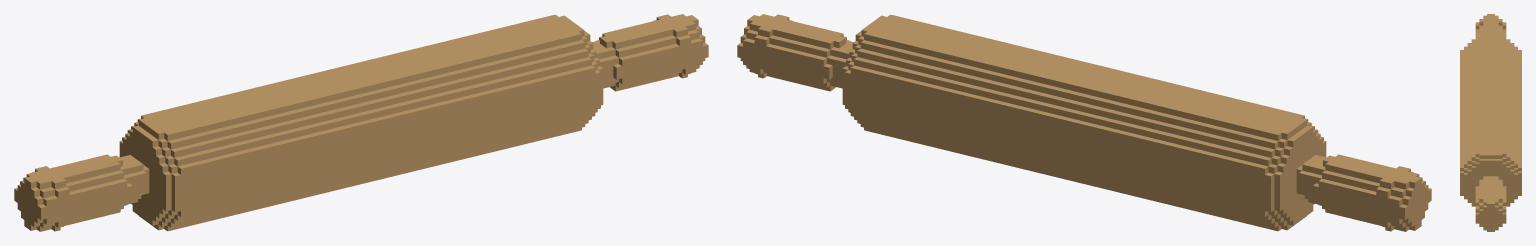
File: rolling_pin.glb
The picture shows the model from 3 angles, left to right: view 1: azimuth 30°, elevation 25°; view 2: azimuth 150°, elevation 25°; view 3: azimuth 270°, elevation 25°; orthographic projection. The views are drawn at different scales.
Visible parts, largest first — view 1: rolling_pin:compound; view 2: rolling_pin:compound; view 3: rolling_pin:compound.
Part boxes in pixels (bbox=[...]): rolling_pin:compound: bbox=[14, 14, 708, 231]; rolling_pin:compound: bbox=[737, 14, 1431, 231]; rolling_pin:compound: bbox=[1460, 14, 1521, 231].
Bounding box in the file's own units: 0.464 × 0.064 × 0.064.
